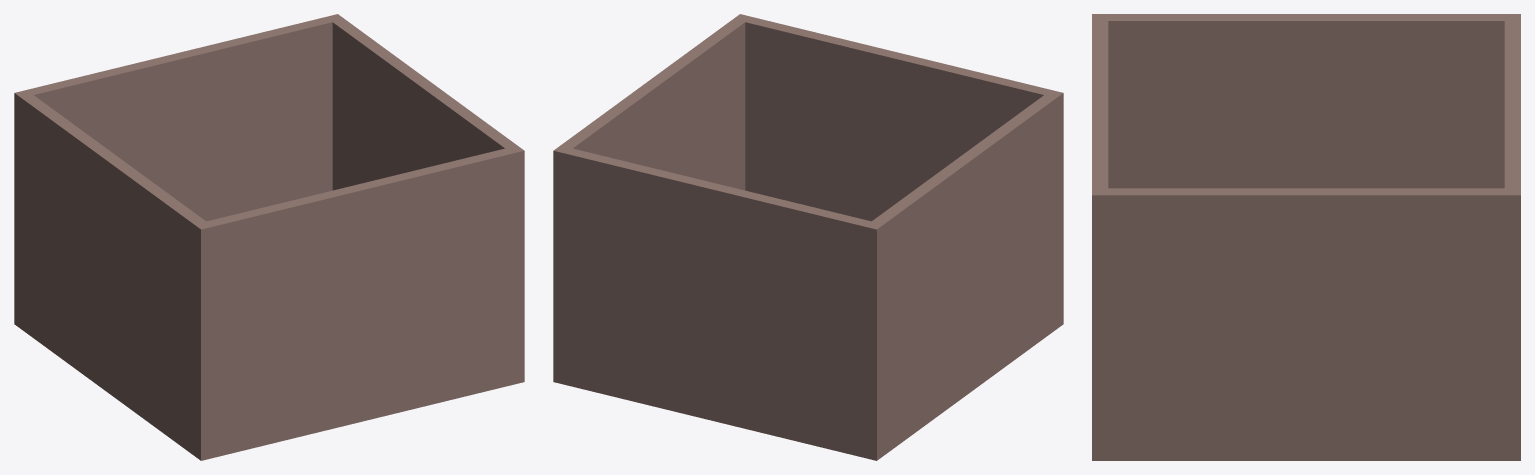
The model's file is KidsToyBasked.fbx.
3 views of the same model, side by side, from view 1: azimuth 30°, elevation 25°; view 2: azimuth 150°, elevation 25°; view 3: azimuth 270°, elevation 25° (orthographic). The views are drawn at different scales.
Visible parts, largest first — view 1: KidsToyBasked; view 2: KidsToyBasked; view 3: KidsToyBasked.
Boxes of the visible parts, <box> form: KidsToyBasked: <box>14,14,524,460</box>; KidsToyBasked: <box>553,14,1063,460</box>; KidsToyBasked: <box>1092,14,1520,460</box>.
Size of the model in its own units: 130 by 130 by 89.
